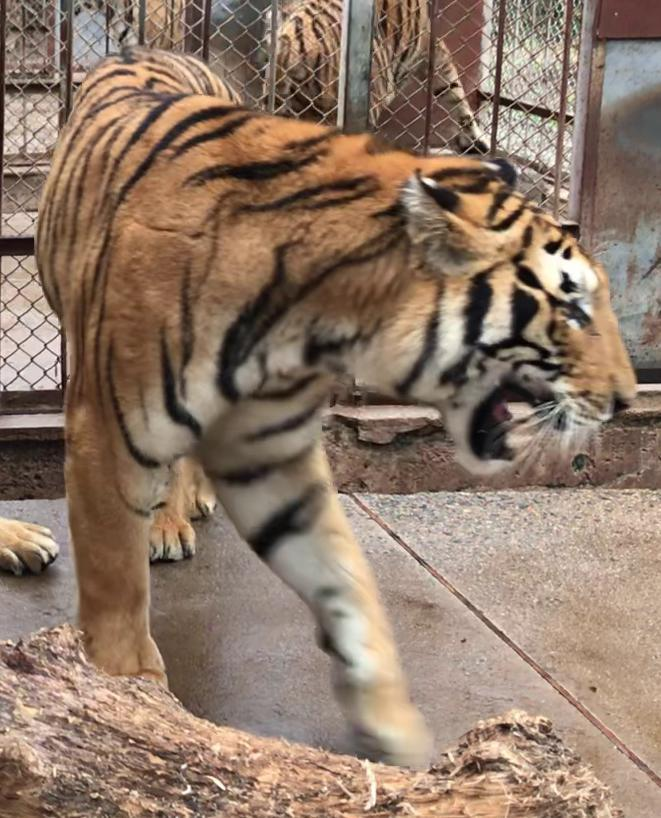tiger: (36, 46, 635, 765)
